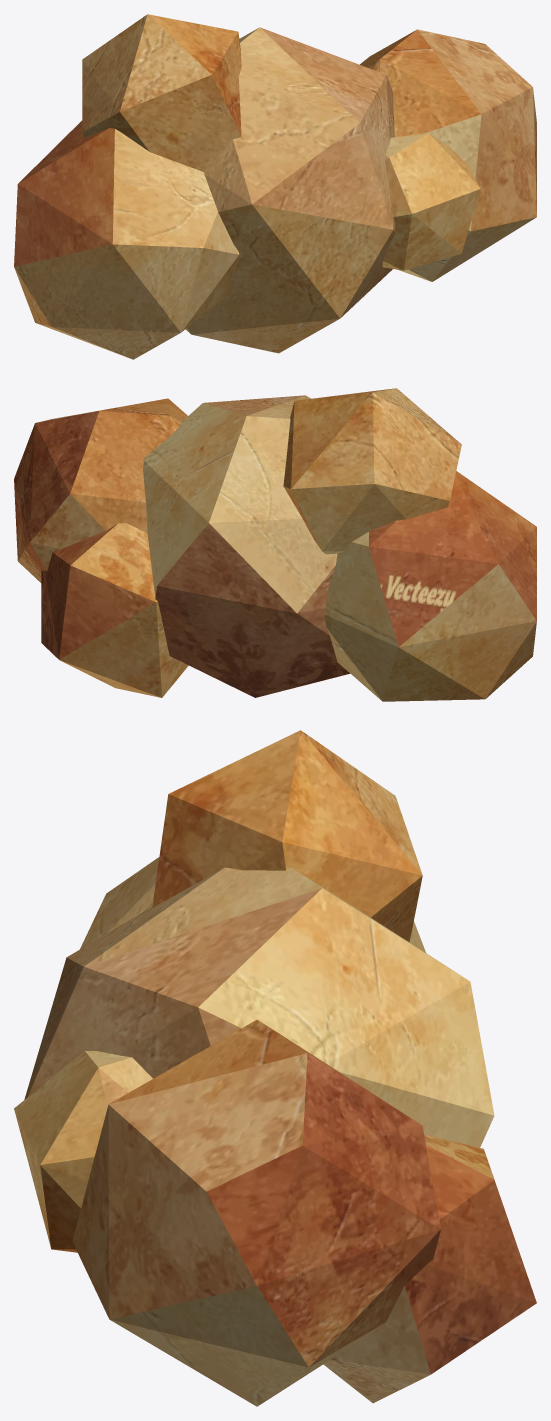
File: testCloudTex.obj
3 renders of one model, top to bottom at view 1: azimuth 30°, elevation 25°; view 2: azimuth 150°, elevation 25°; view 3: azimuth 270°, elevation 25°, orthographic. The views are drawn at different scales.
Parts seen in each view (by area): view 1: cloudtex; view 2: cloudtex; view 3: cloudtex.
Boxes of the visible parts, <box> form: cloudtex: <box>14,14,536,359</box>; cloudtex: <box>14,388,536,701</box>; cloudtex: <box>14,730,536,1406</box>.
Bounding box in the file's own units: 3.78 × 2.32 × 2.19.
